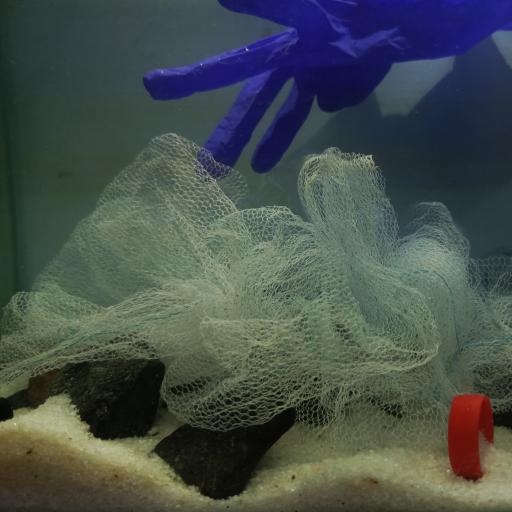bottle_cap: (448, 394, 493, 480)
glove: (143, 0, 512, 179)
net: (0, 131, 512, 447)
